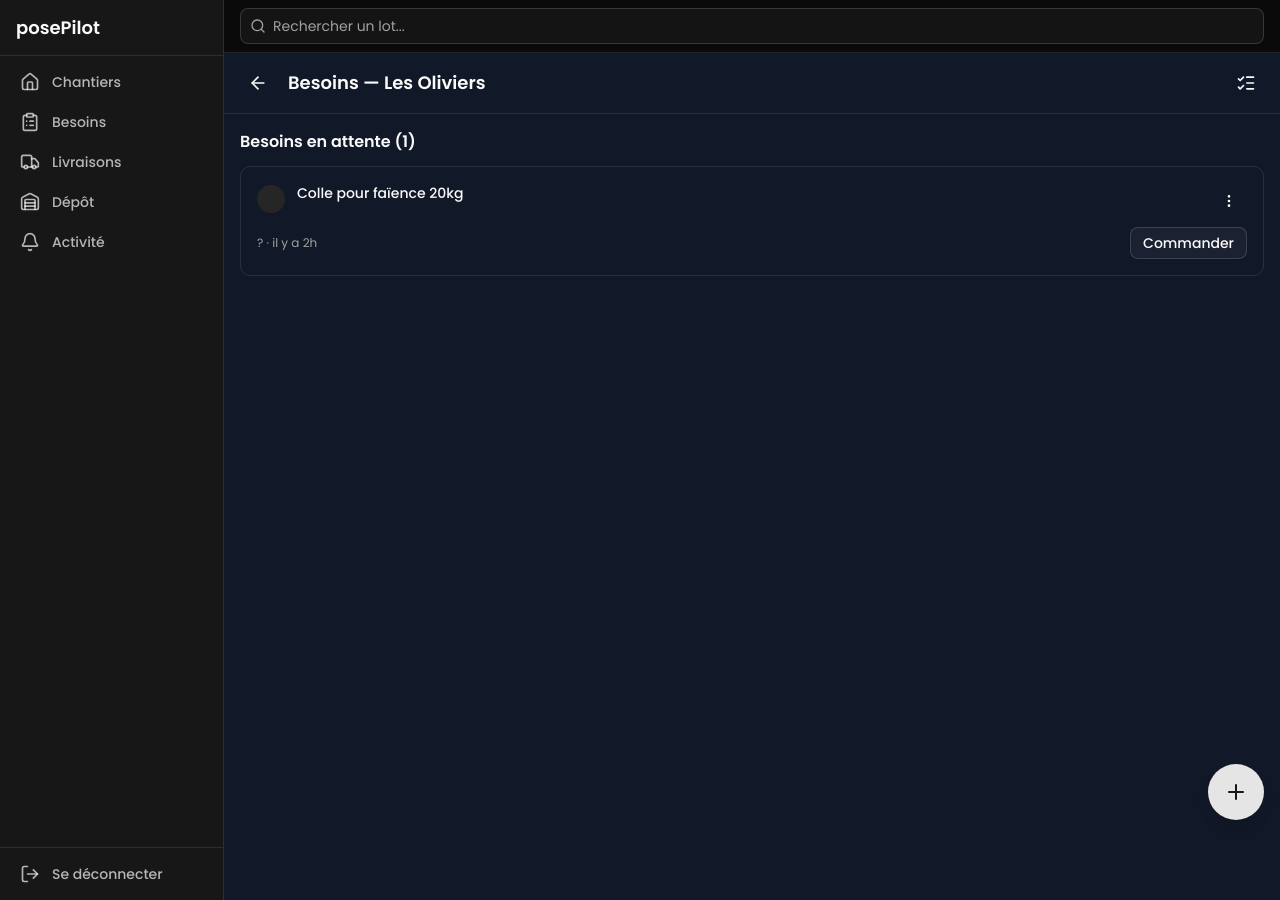
Test: BesoinsPage — Edit and Delete › opens edit sheet with pre-filled description
Expected: the text "Colle pour faïence 20kg" is shown, left=297, top=183, right=464, bottom=203
Click the button named "Actions" at [1229, 201], box left=1211, top=183, right=1247, bottom=219
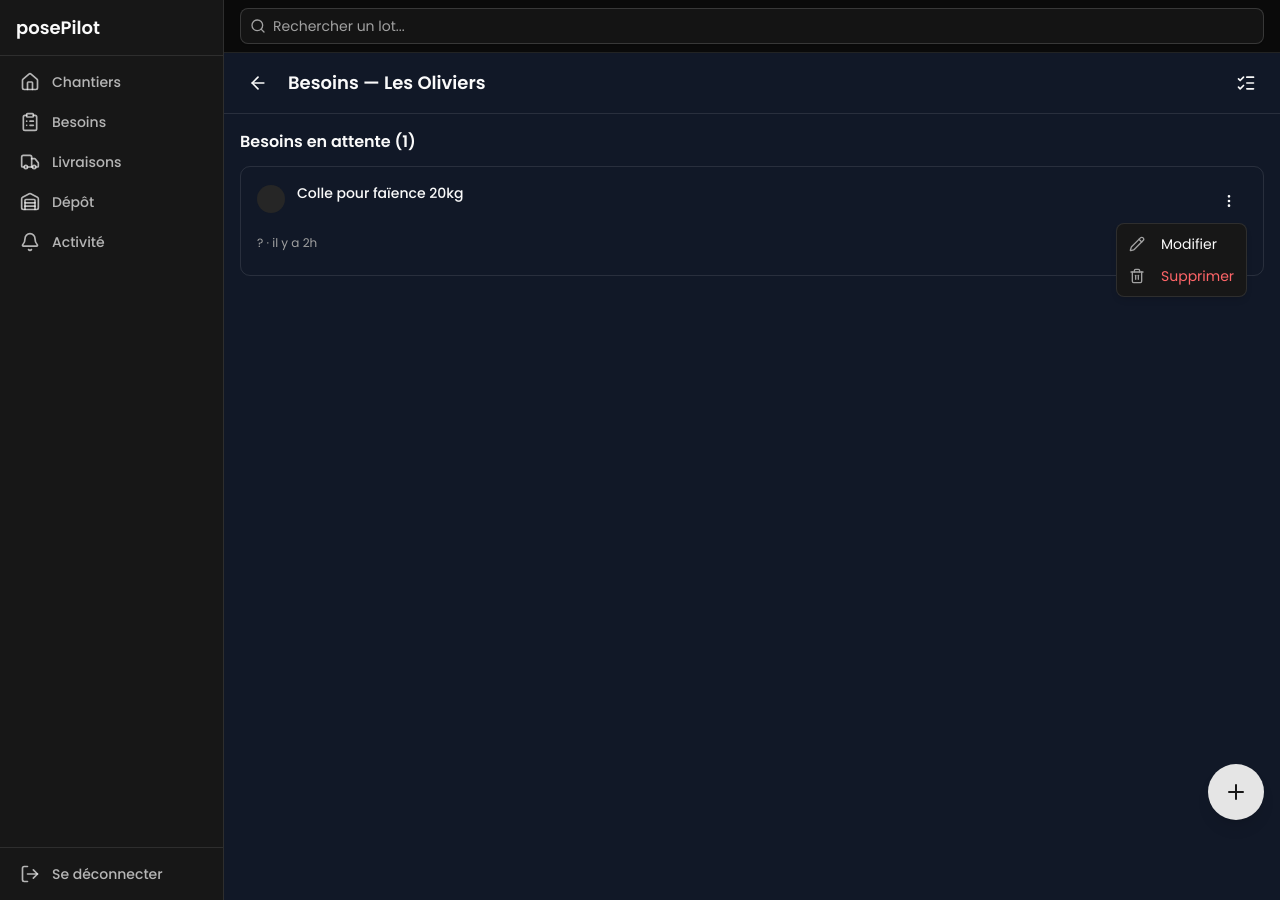
Click the menu item "Modifier" at [1173, 244], box left=1129, top=234, right=1217, bottom=254
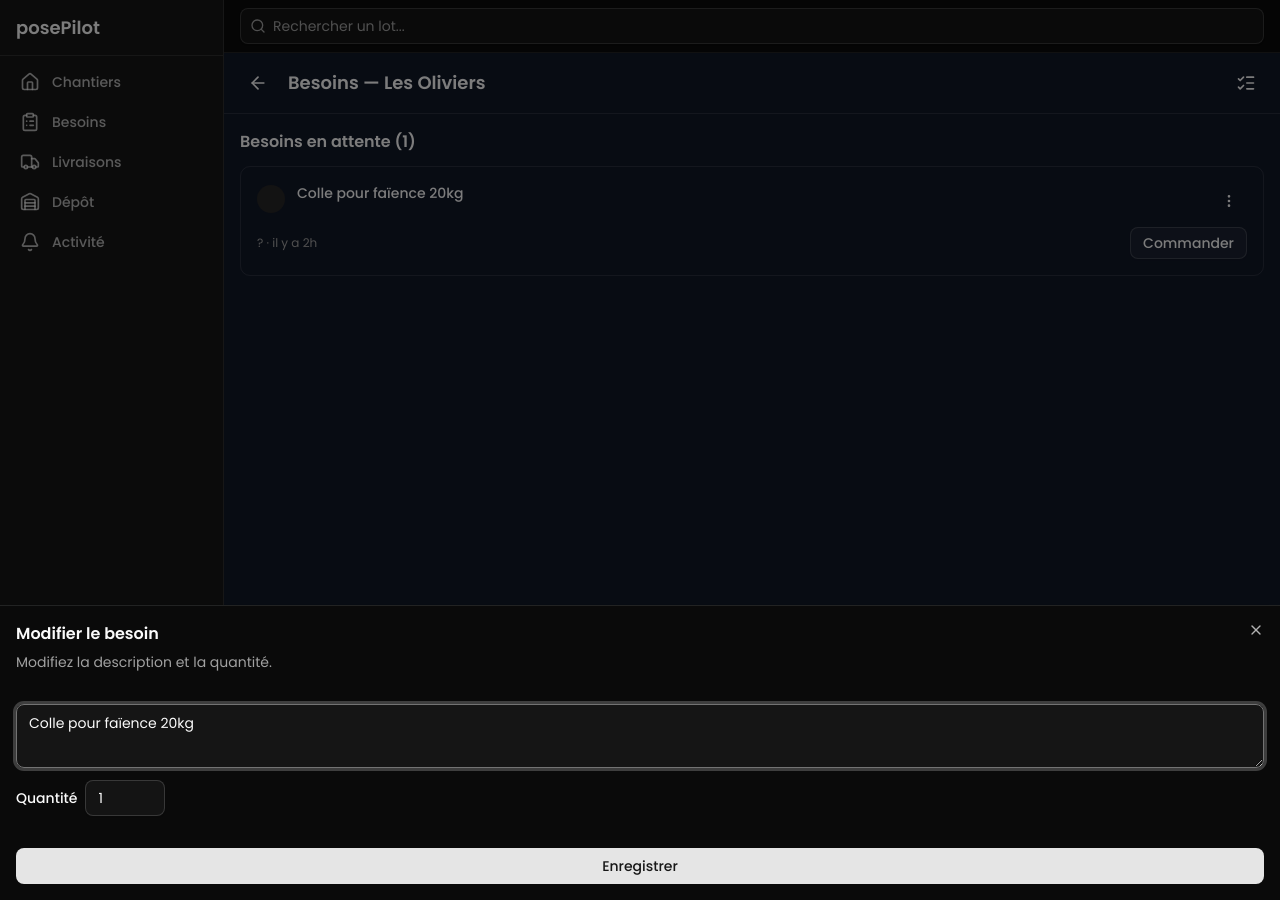
Now the heading "Modifier le besoin" is shown, box left=16, top=622, right=159, bottom=645
Now the text box named "Description du besoin (édition)" holds "Colle pour faïence 20kg", box left=16, top=704, right=1264, bottom=768
